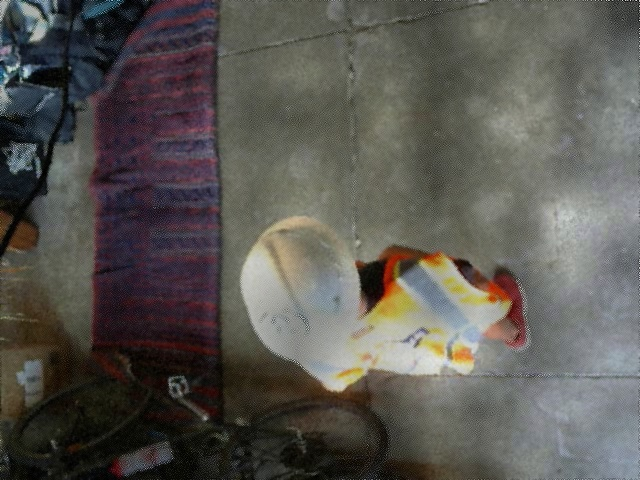eight: (254, 307, 307, 348)
